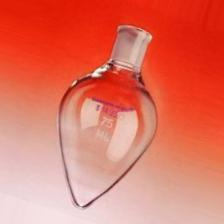Pear shaped flask: (30, 15, 159, 210)
